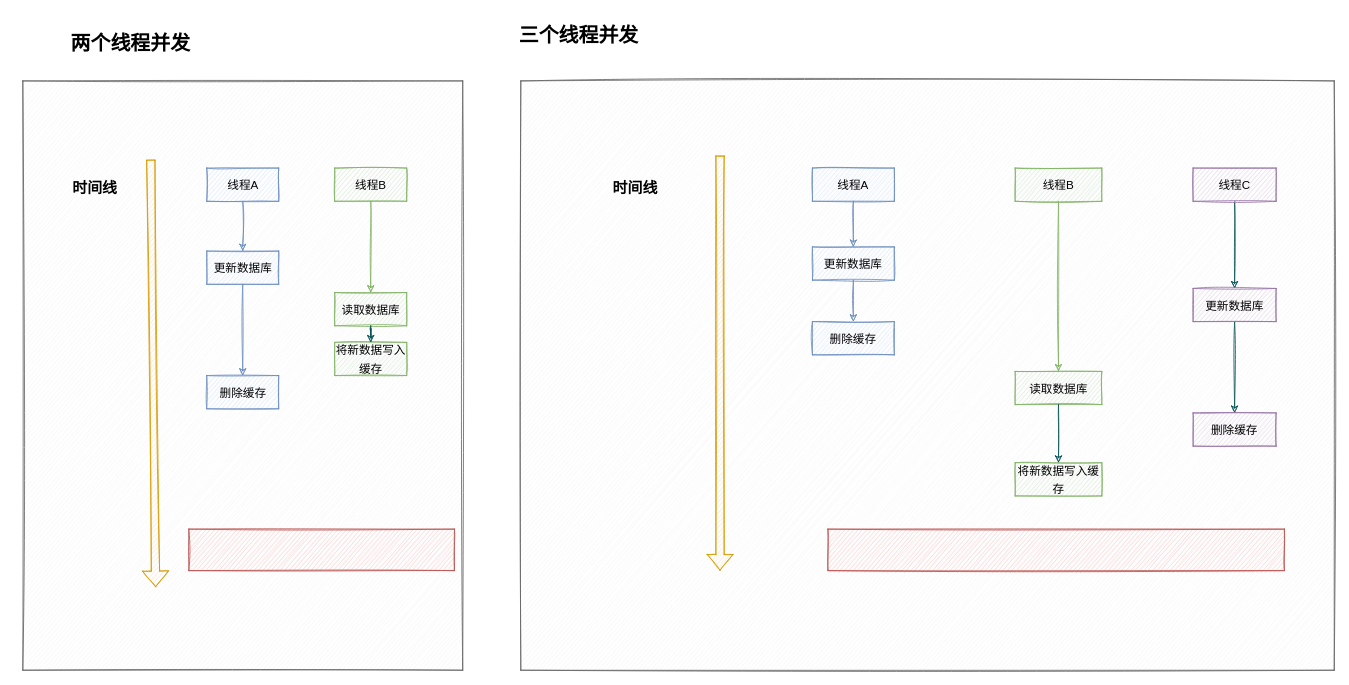
This 1349x685 diagram has some shape labels left out. Here are the shapes that lost their labels. From the top down, the centre of each, then its label:
At point (321, 549): "只有两个线程并发操作没有什么大问题。 只是会有短暂的数据不一致，在更新数据到删除缓存的这个时间端，会读取到错误数据".
At point (1055, 549): "缓存和mysql数据不一致".
